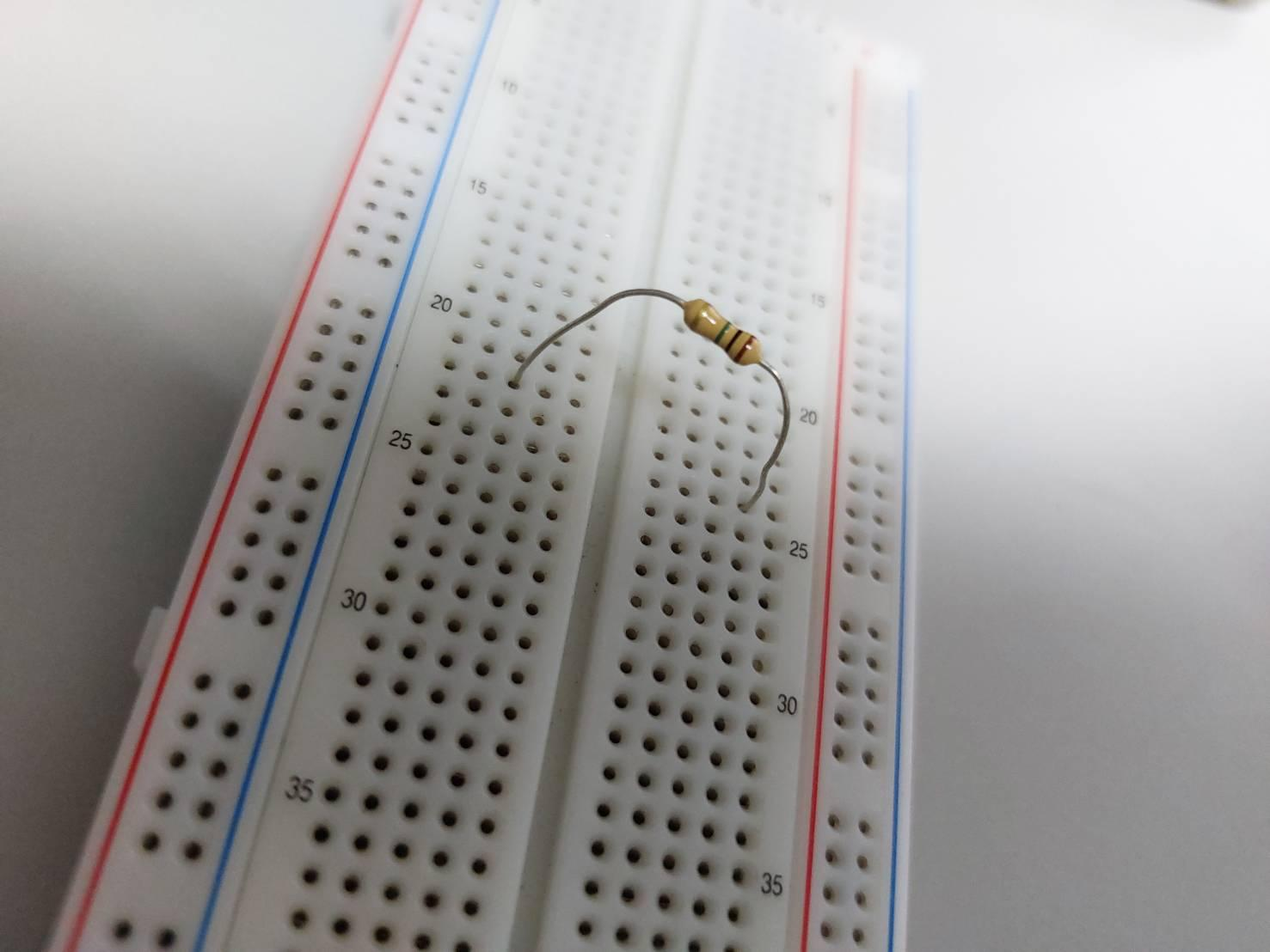resistor: (683, 298, 762, 365)
